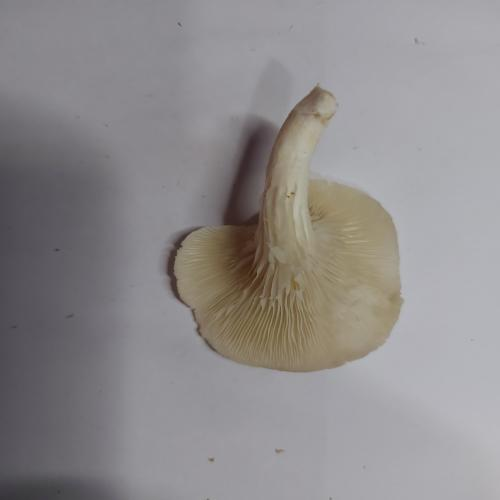Oyster Mushroom: (172, 82, 405, 373)
